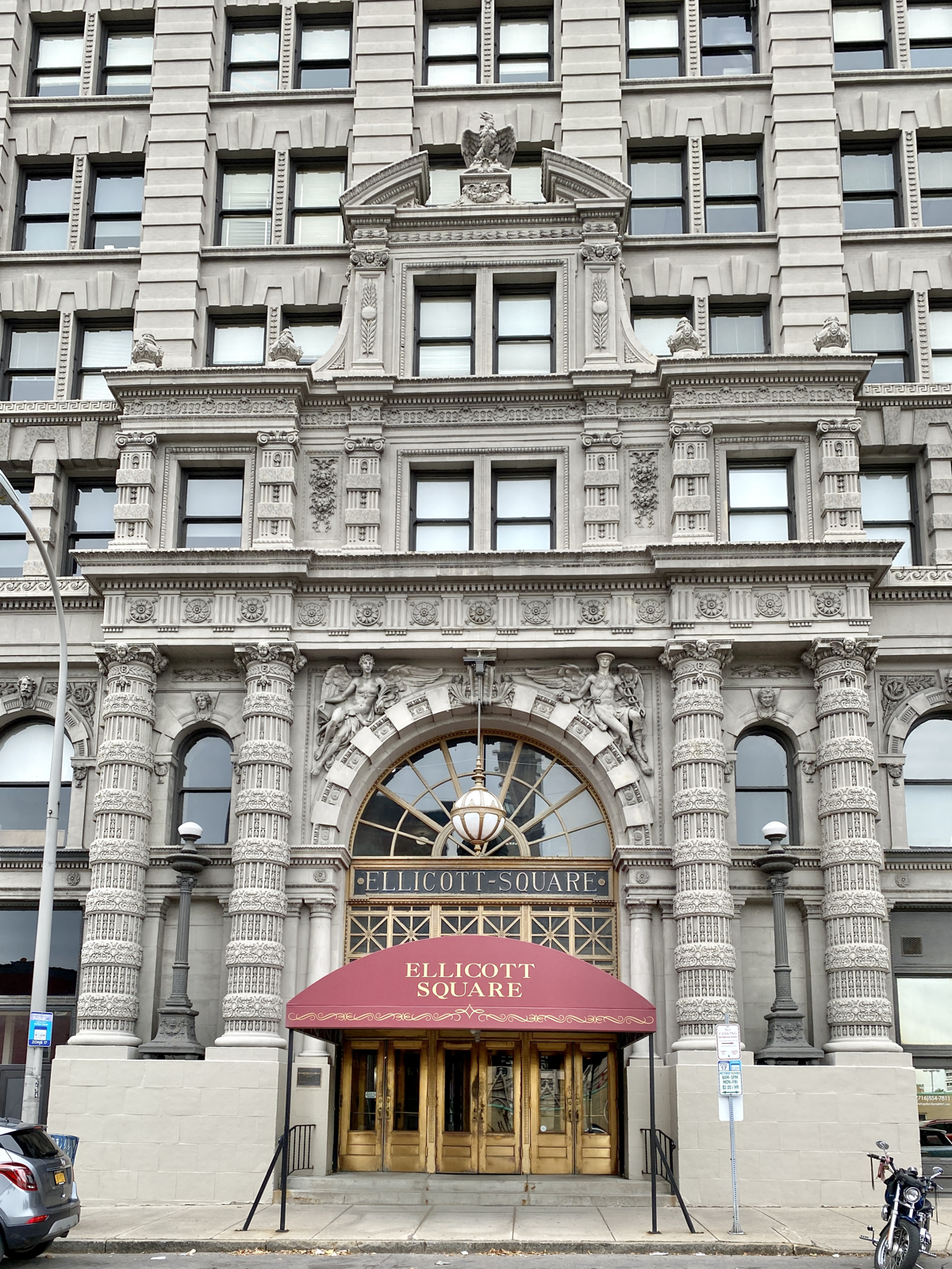fachada: (16, 0, 952, 1269)
poste: (746, 801, 833, 1067), (155, 805, 226, 1059)
